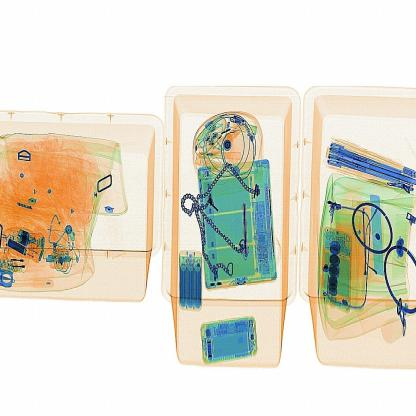knife: (240, 194, 256, 264)
